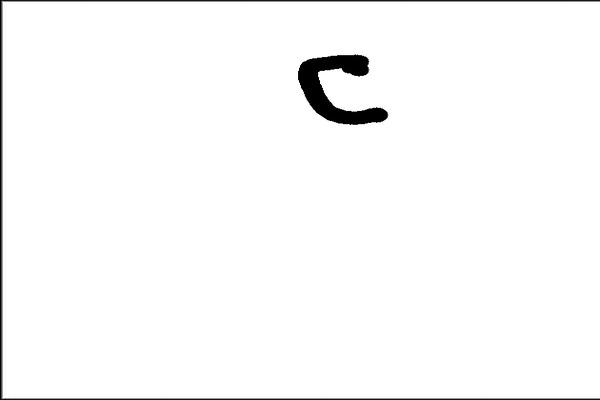C: (293, 50, 393, 128)
